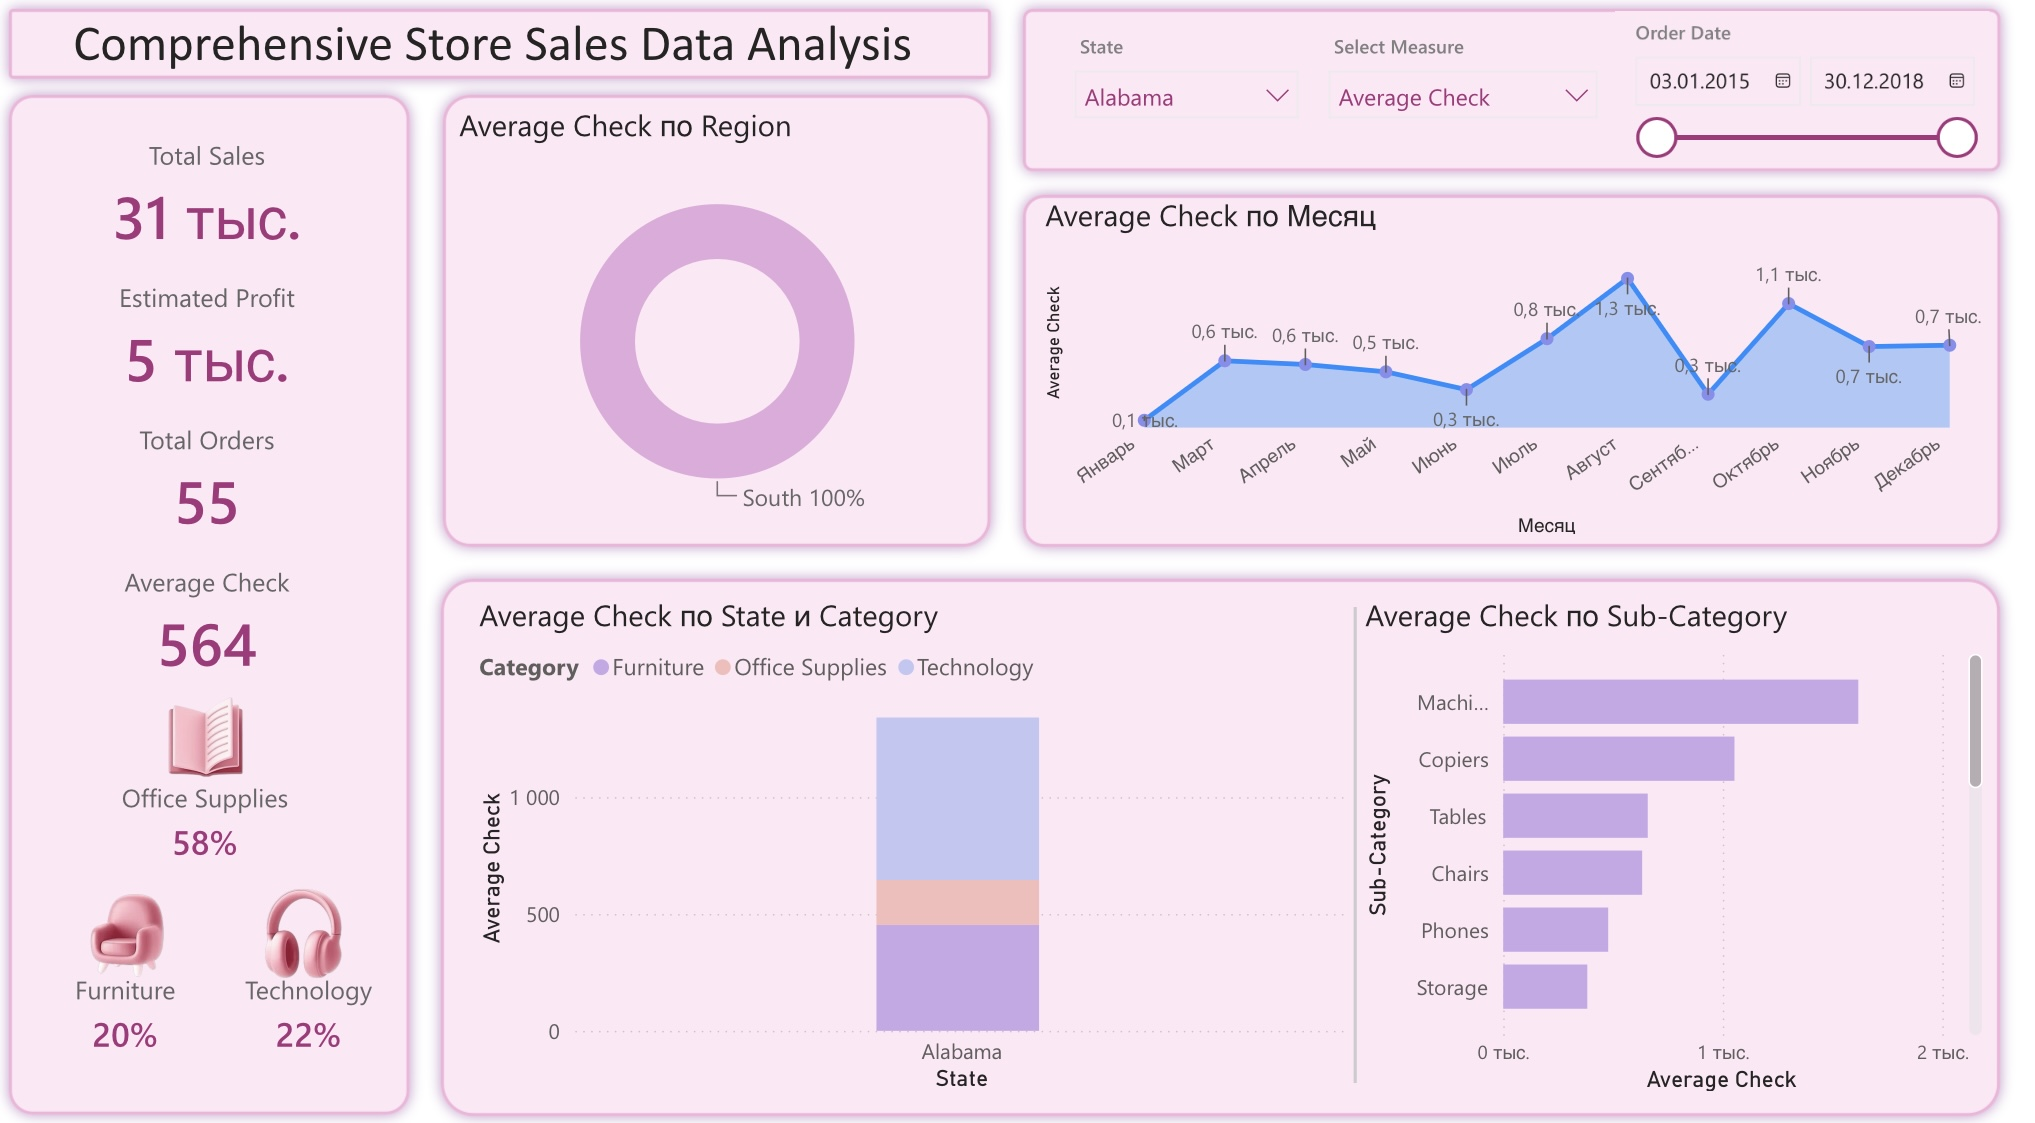

The page's visual inventory and layout, read from the dashboard file:
{"tool":"powerbi","page":{"name":"Data Analysis","canvas":[1280,720],"ordinal":0},"visuals":[{"type":"textbox","box":[10,0,280,280],"z":0},{"type":"textbox","box":[0,0,371.5,54.7],"z":1000},{"type":"shape","box":[0,54.7,273.6,665.3],"z":2000},{"type":"cardVisual","fields":{"Data":["_Measures.Total Sales","_Measures.Estimated Profit","_Measures.Total Orders","_Measures.Average Check"]},"box":[15.1,74.2,240.9,380.2],"z":3000},{"type":"cardVisual","fields":{"Data":["_Measures.Furniture Part %","_Measures.Technology Part %"]},"box":[15.8,591.8,250.6,108],"z":4000},{"type":"cardVisual","fields":{"Data":["_Measures.Office Supplies"]},"box":[14.4,470.9,240.5,108],"z":5000},{"type":"shape","box":[274.2,54.5,366.6,306],"z":6000},{"type":"donutChart","fields":{"Y":["_Measures.Total Sales"],"Category":["DimGeography.Region"]},"box":[289.4,69.1,337,275],"z":7000},{"type":"shape","box":[273.6,360,1006.6,360],"z":8000},{"type":"columnChart","fields":{"Y":["_Measures.Total Sales"],"Category":["DimGeography.State"],"Series":["DimProduct.Category"]},"box":[302.4,380.2,560.2,319.7],"z":9000},{"type":"shape","box":[641.4,117.1,638.6,242.9],"z":10000},{"type":"areaChart","fields":{"Y":["_Measures.Total Sales"],"Category":["FactSales.Order Date.Изменение.Иерархия дат.Год","FactSales.Order Date.Изменение.Иерархия дат.Квартал","FactSales.Order Date.Изменение.Иерархия дат.Месяц","FactSales.Order Date.Изменение.Иерархия дат.День"]},"box":[660,127.1,602.9,221.4],"z":11000},{"type":"barChart","fields":{"Y":["_Measures.Total Sales"],"Category":["DimProduct.Sub-Category"]},"box":[862.6,380.2,400.3,319.7],"z":12000},{"type":"shape","box":[711.4,388.6,301.4,301.4],"z":13000},{"type":"image","box":[30.2,555.8,105.1,90.7],"z":14000},{"type":"image","box":[96.5,436.3,80.6,69.1],"z":15000},{"type":"image","box":[149.8,555.8,96.5,74.9],"z":16000},{"type":"shape","box":[0,0,641.4,64.3],"z":17000},{"type":"textbox","box":[45.7,5.7,581.4,54.3],"z":18000},{"type":"shape","box":[641.4,0,638.6,122.9],"z":19000},{"type":"slicer","fields":{"Values":["FactSales.Order Date"]},"box":[1025.7,11.4,237.1,98.6],"z":20000},{"type":"slicer","fields":{"Values":["Select Measure.Select Measure"]},"box":[835.7,20,190,67.1],"z":21000},{"type":"slicer","fields":{"Values":["DimGeography.State"]},"box":[674.3,20,161.4,67.1],"z":22000}]}

Visuals, with their boxes in screenshot pixels (x1, y1, x2, y2), scaled from the page's 1280x720 canvas onto the 2035x1123 screenshot:
textbox: (16, 0, 461, 437)
textbox: (0, 0, 591, 85)
shape: (0, 85, 435, 1122)
cardVisual - _Measures.Total Sales x _Measures.Estimated Profit: (24, 116, 407, 709)
cardVisual - _Measures.Furniture Part % x _Measures.Technology Part %: (25, 923, 424, 1091)
cardVisual - _Measures.Office Supplies: (23, 734, 405, 903)
shape: (436, 85, 1019, 562)
donutChart - _Measures.Total Sales x DimGeography.Region: (460, 108, 996, 537)
shape: (435, 562, 2034, 1122)
columnChart - _Measures.Total Sales x DimGeography.State: (481, 593, 1371, 1092)
shape: (1020, 183, 2034, 562)
areaChart - _Measures.Total Sales x FactSales.Order Date.Изменение.Иерархия дат.Год: (1049, 198, 2008, 544)
barChart - _Measures.Total Sales x DimProduct.Sub-Category: (1371, 593, 2008, 1092)
shape: (1131, 606, 1610, 1076)
image: (48, 867, 215, 1008)
image: (153, 681, 282, 788)
image: (238, 867, 392, 984)
shape: (0, 0, 1020, 100)
textbox: (73, 9, 997, 94)
shape: (1020, 0, 2034, 192)
slicer - FactSales.Order Date: (1631, 18, 2008, 172)
slicer - Select Measure.Select Measure: (1329, 31, 1631, 136)
slicer - DimGeography.State: (1072, 31, 1329, 136)
